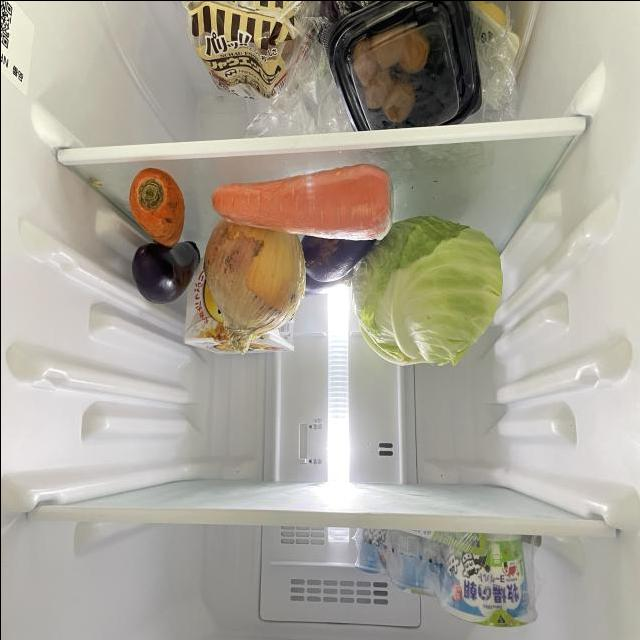cabbage: (353, 213, 500, 360)
carrot: (213, 166, 394, 244), (126, 169, 182, 247)
eggplant: (135, 237, 199, 307), (303, 232, 377, 285), (302, 262, 359, 298)
onion: (204, 212, 306, 348)
